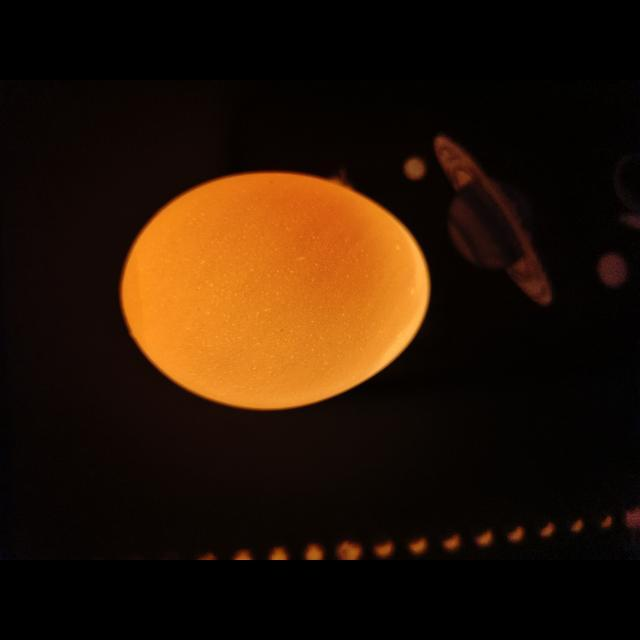AA - Premium: (121, 173, 430, 409)
